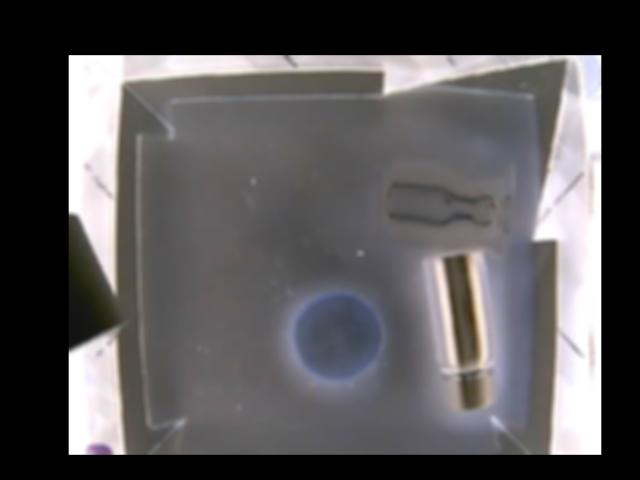Bottle: (420, 250, 498, 409), (384, 165, 510, 241)
Mooli: (292, 293, 382, 382)
